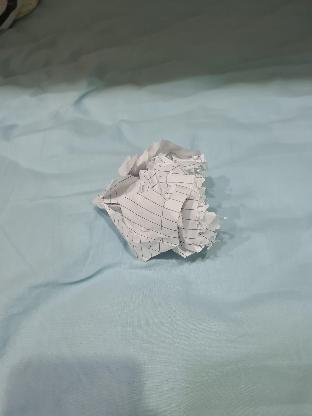Paper: (102, 143, 218, 261)
